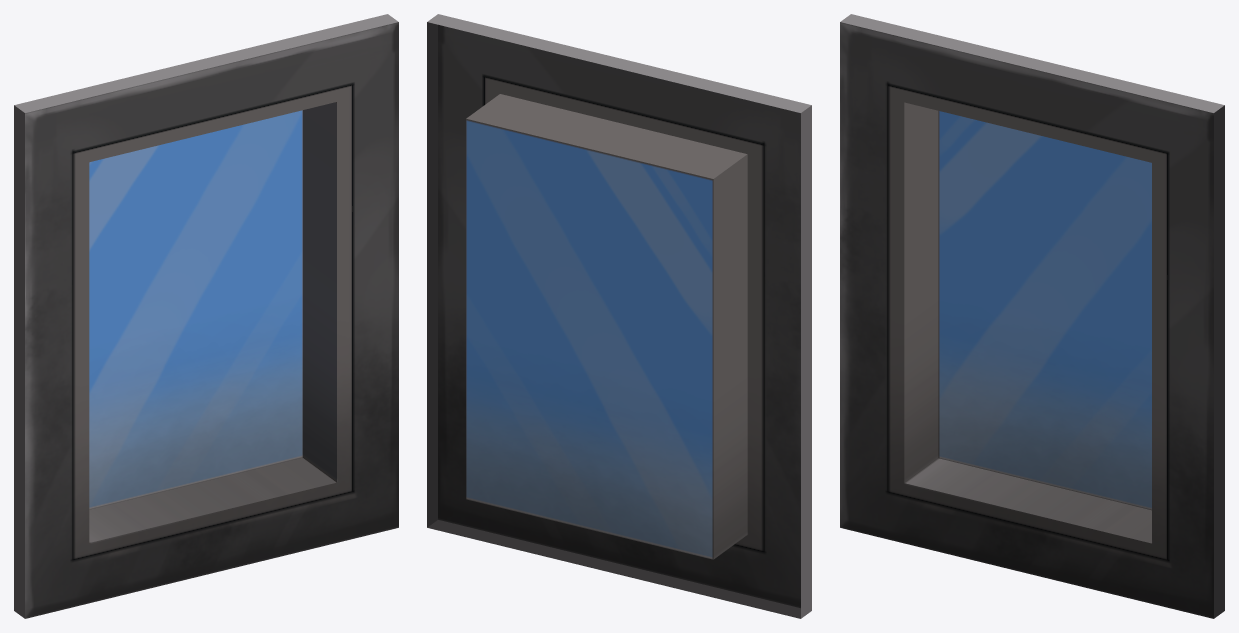
The model's file is Window_02.fbx.
The picture shows the model from 3 angles, left to right: view 1: azimuth 30°, elevation 25°; view 2: azimuth 150°, elevation 25°; view 3: azimuth 330°, elevation 25°; orthographic projection.
Visible parts, largest first — view 1: Window_02; view 2: Window_02; view 3: Window_02.
Part boxes in pixels (box(x1,y1,x2,y2)): Window_02: box(14, 14, 398, 618); Window_02: box(427, 14, 811, 618); Window_02: box(840, 14, 1224, 618).
Bounding box in the file's own units: 126 × 163 × 19.93.
